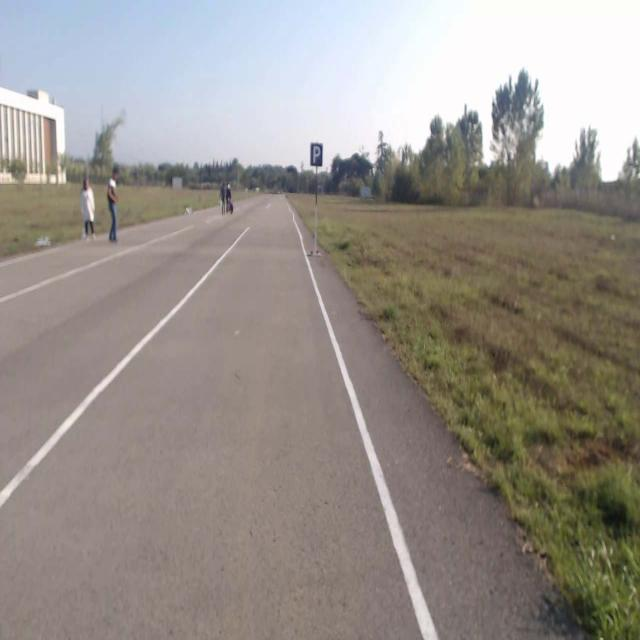park: (310, 142, 322, 166)
